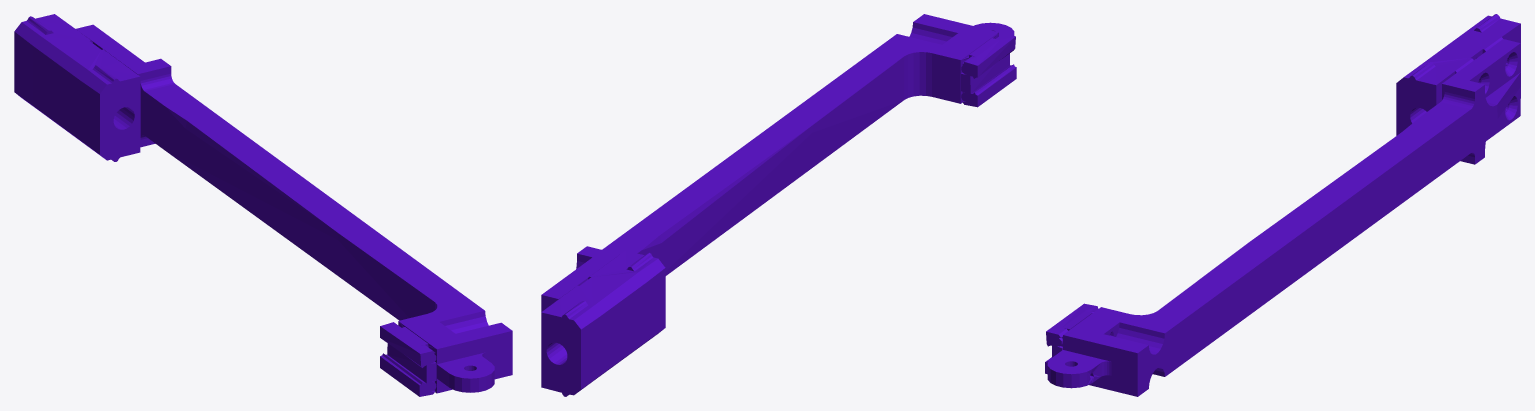
File: Tilt Proximal Linkage.OBJ
3 views of the same model, side by side, from view 1: azimuth 30°, elevation 25°; view 2: azimuth 150°, elevation 25°; view 3: azimuth 330°, elevation 25° (orthographic).
Visible parts, largest first — view 1: /ambf/env/Tilt_Proximal_Linkage_Tilt_Proximal_Linkage; view 2: /ambf/env/Tilt_Proximal_Linkage_Tilt_Proximal_Linkage; view 3: /ambf/env/Tilt_Proximal_Linkage_Tilt_Proximal_Linkage.
Part boxes in pixels (x1,y1,x2,y2): /ambf/env/Tilt_Proximal_Linkage_Tilt_Proximal_Linkage: (14, 14, 512, 396); /ambf/env/Tilt_Proximal_Linkage_Tilt_Proximal_Linkage: (541, 14, 1016, 396); /ambf/env/Tilt_Proximal_Linkage_Tilt_Proximal_Linkage: (1045, 14, 1520, 396).
Size of the model in its own units: 0.0265 by 0.0226 by 0.2198.
